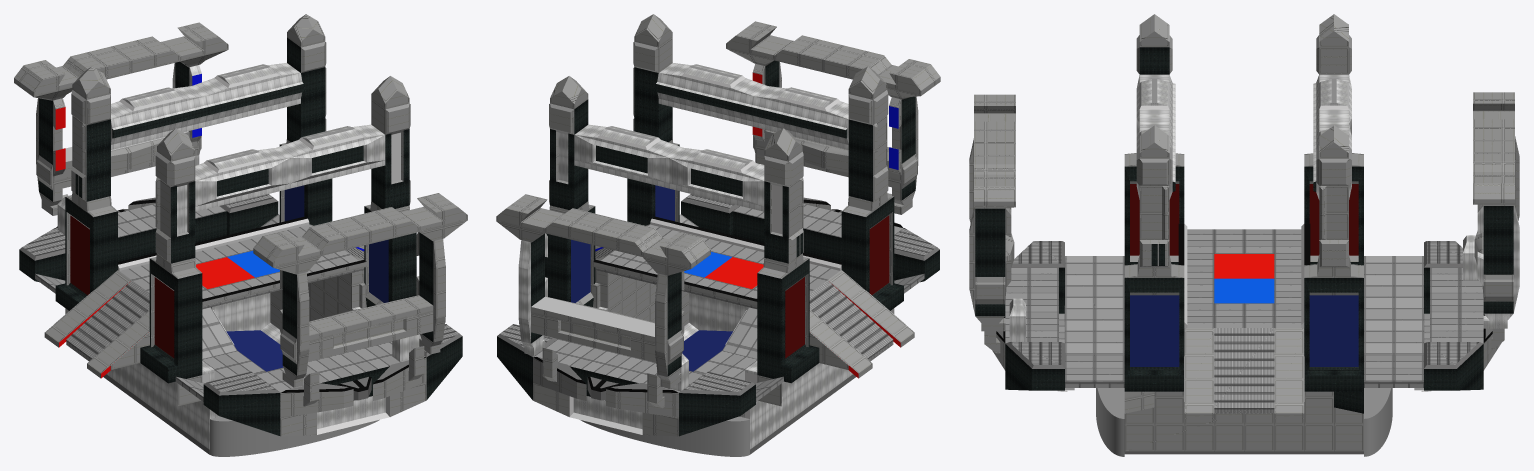
File: test_map001.fbx
3 renders of one model, left to right at view 1: azimuth 30°, elevation 25°; view 2: azimuth 150°, elevation 25°; view 3: azimuth 270°, elevation 25°, orthographic. The views are drawn at different scales.
Visible parts, largest first — view 1: Bridge1; view 2: Bridge1; view 3: Bridge1.
Boxes of the visible parts, box(x1,y1,x2,y2) form: Bridge1: box(14, 14, 467, 456); Bridge1: box(496, 14, 940, 456); Bridge1: box(969, 14, 1519, 456).
Bounding box in the file's own units: 543 × 496 × 724.
